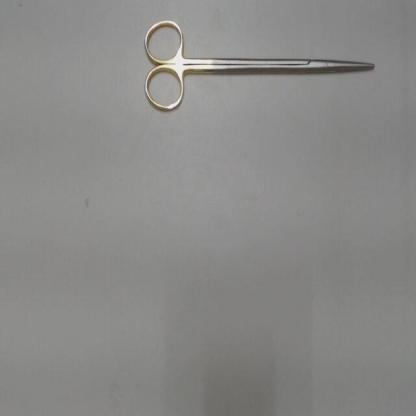7 Metzenbaum Scissors: (141, 15, 375, 116)
